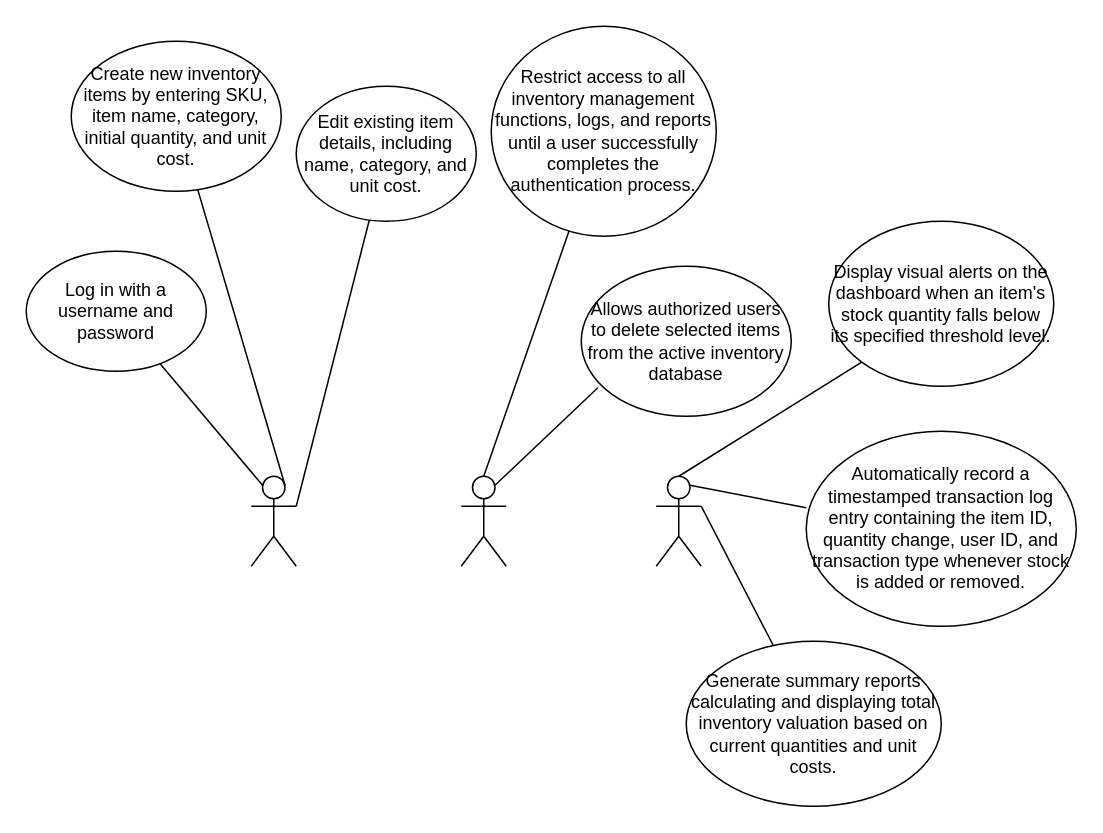
Image size: 1103x833. Some labels were removed from this diagram. The shapes that lost their labels are listed below. From the top down, each one's centre as x and y in pixels, then its label:
the point at 273,520: Human User
the point at 483,520: Security System
the point at 678,520: Automatic Reporting Software
